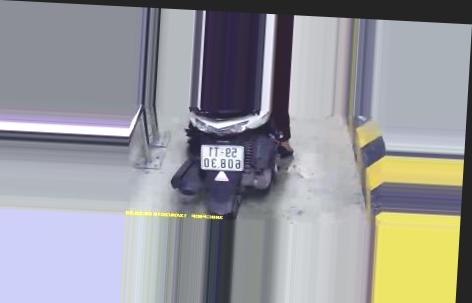License_Plate: (197, 141, 248, 174)
